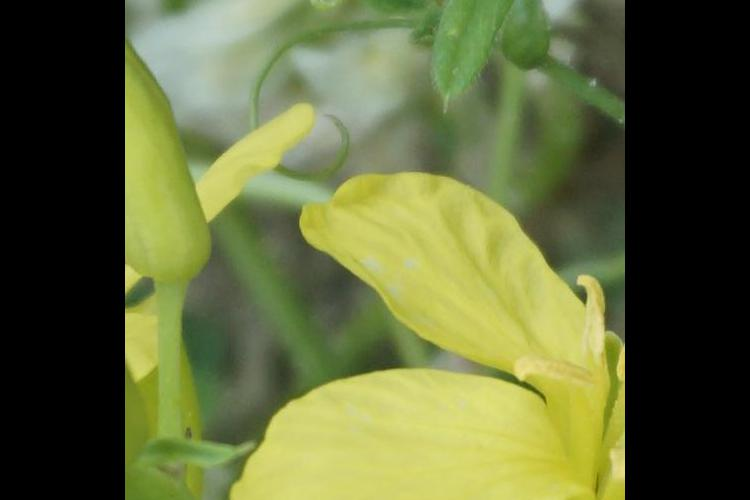bud: (128, 43, 205, 281)
yellow: (244, 185, 626, 500)
